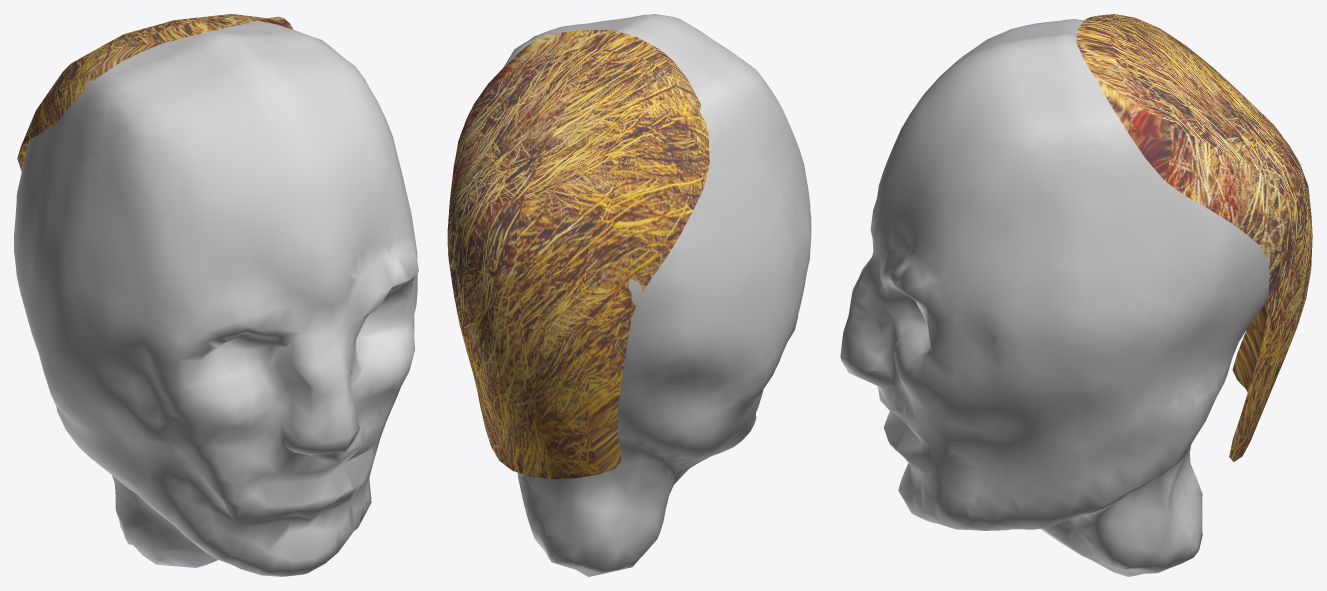
File: SM_A_Téo00_Tete00.fbx
3 views of the same model, side by side, from view 1: azimuth 30°, elevation 25°; view 2: azimuth 150°, elevation 25°; view 3: azimuth 270°, elevation 25° (orthographic). The views are drawn at different scales.
Visible parts, largest first — view 1: SM_A_Téo00_Tete00; view 2: SM_A_Téo00_Tete00; view 3: SM_A_Téo00_Tete00.
Boxes of the visible parts, x1,y1,x2,y2 form: SM_A_Téo00_Tete00: (14, 14, 418, 576); SM_A_Téo00_Tete00: (447, 14, 811, 576); SM_A_Téo00_Tete00: (840, 14, 1312, 576).
Size of the model in its own units: 31.17 by 48.98 by 39.38.
